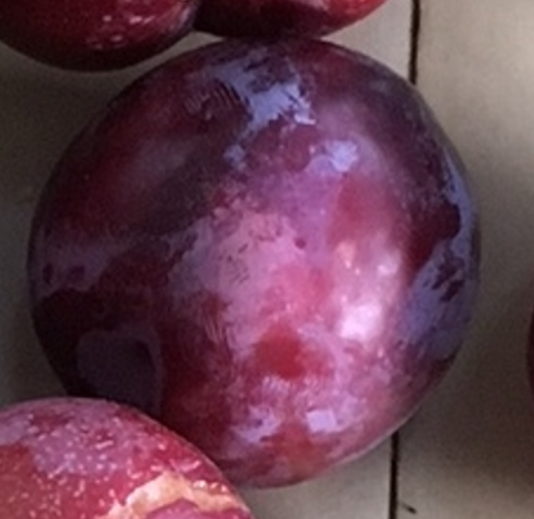plum_B: (27, 36, 480, 489)
